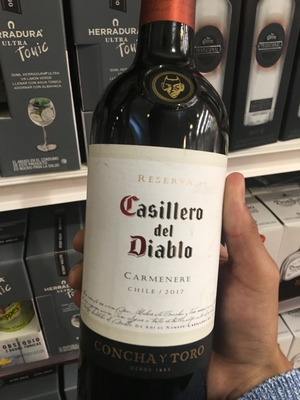casillero del diablo carmenere: (78, 22, 248, 400)
